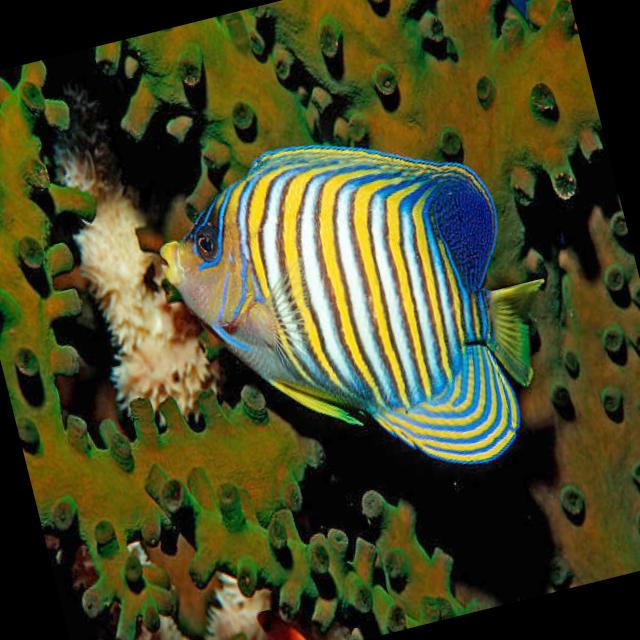AngelFish: (140, 96, 580, 528)
